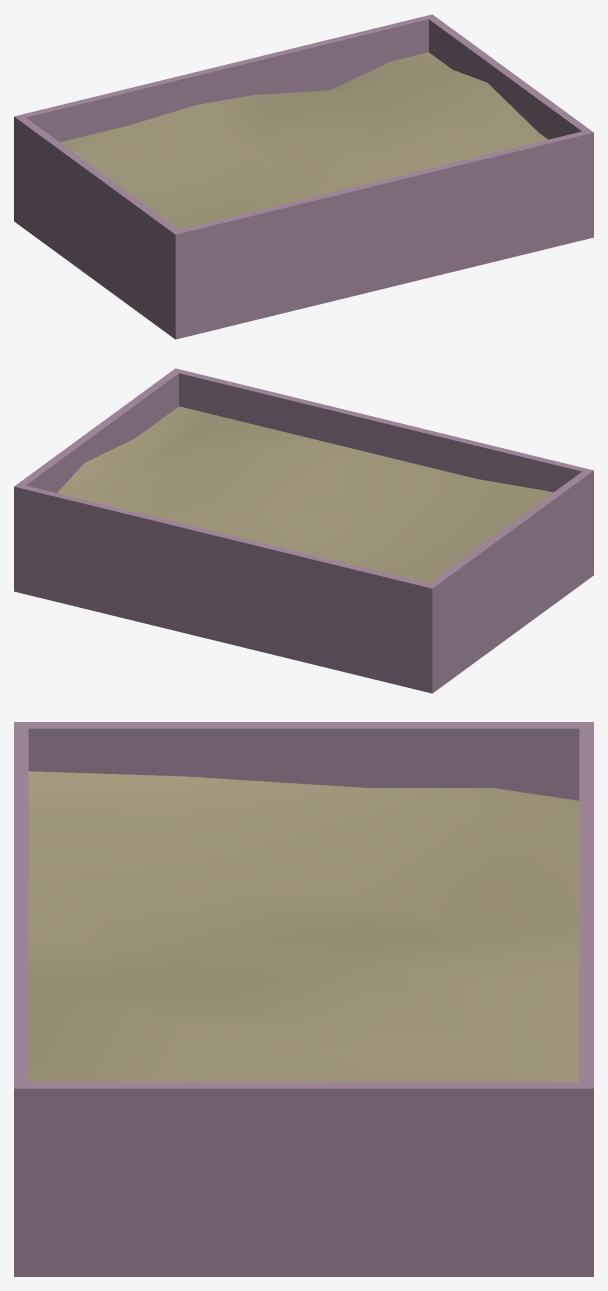
File: LitterBox_1.fbx
3 renders of one model, top to bottom at view 1: azimuth 30°, elevation 25°; view 2: azimuth 150°, elevation 25°; view 3: azimuth 270°, elevation 25°, orthographic. The views are drawn at different scales.
Parts seen in each view (by area): view 1: pCube4, pCube3; view 2: pCube4, pCube3; view 3: pCube3, pCube4.
Part boxes in pixels (x1,y1,x2,y2): pCube4: (14,14,593,339); pCube3: (60,52,547,229); pCube4: (14,368,593,693); pCube3: (57,406,553,583); pCube3: (28,771,579,1081); pCube4: (14,722,593,1276).
Bounding box in the file's own units: 0.0104 × 0.0025 × 0.00698.
